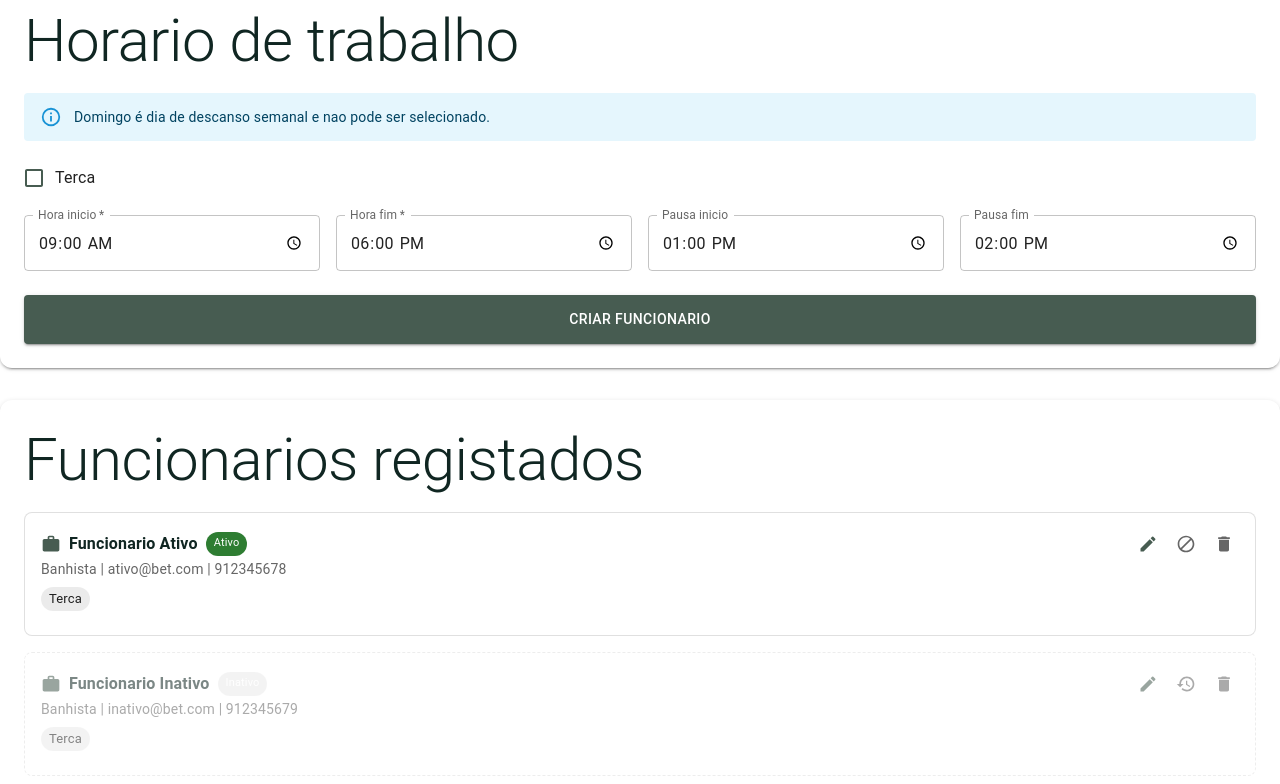
Test case: Funcionarios page › elimina funcionario com DELETE e mostra estado ativo/inativo
(page scrolled)
Expected: the heading "Funcionario Ativo" is shown, x1=69 y1=530 x2=198 y2=558
Expected: the text "Ativo" is shown, x1=214 y1=536 x2=239 y2=549
Clicar no botão IconButton "Eliminar" do card abre o ConfirmDialog
Click the button named "Eliminar" in the row of "Funcionario Ativo". click: (1224, 544)
box: x1=1209 y1=528 x2=1239 y2=558
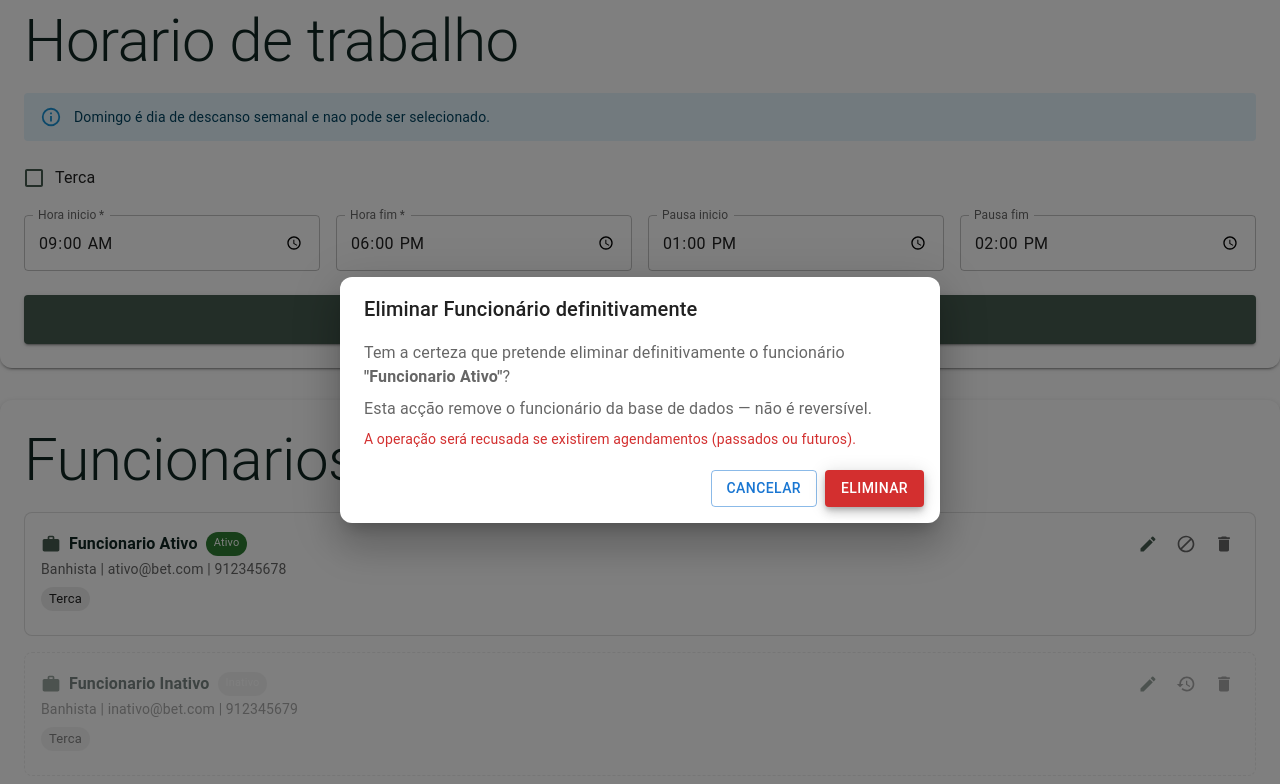
Now the heading "Eliminar Funcionário definitivamente" is shown, box x1=364 y1=297 x2=697 y2=321
Confirmar no dialog
Click the button with test id "confirm-dialog-confirm". click: (874, 489)
box: x1=825 y1=470 x2=924 y2=507
(page scrolled)
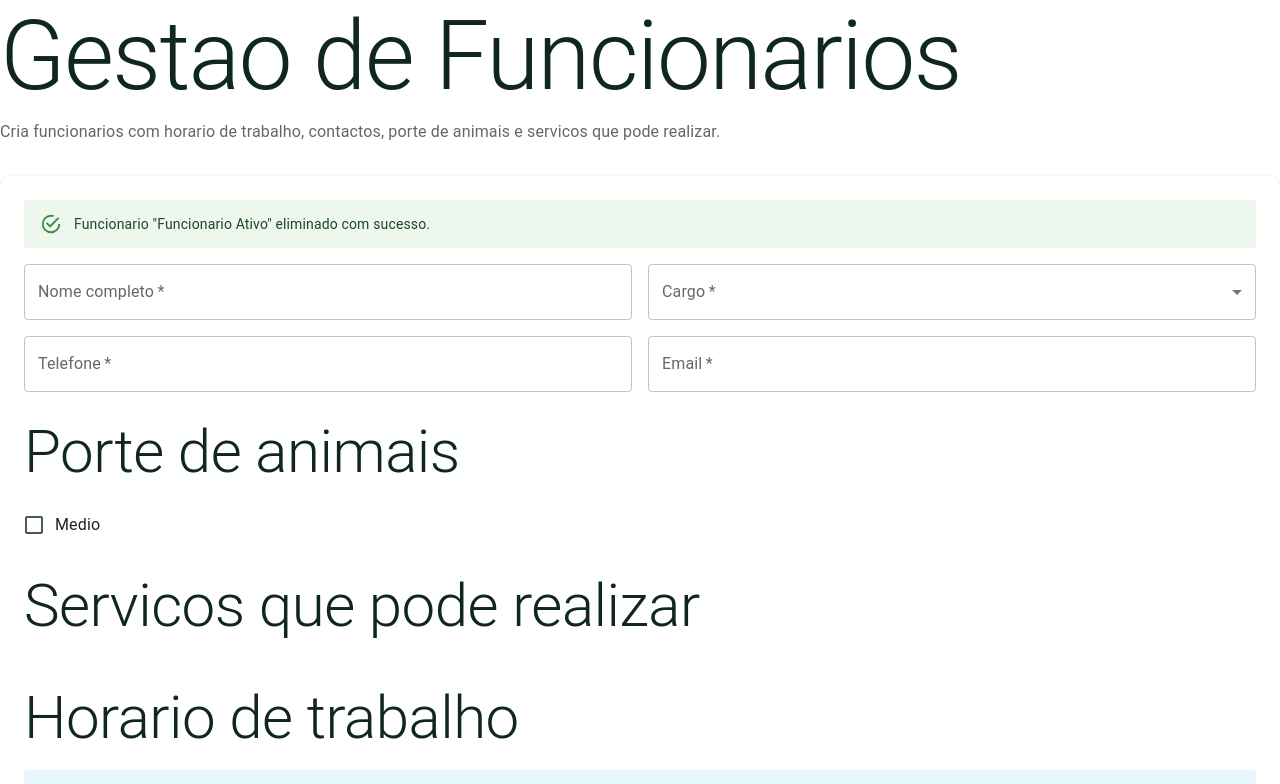
Now the text "Funcionario \"Funcionario Ativo\" eliminado com sucesso." is shown, box x1=74 y1=216 x2=430 y2=232
